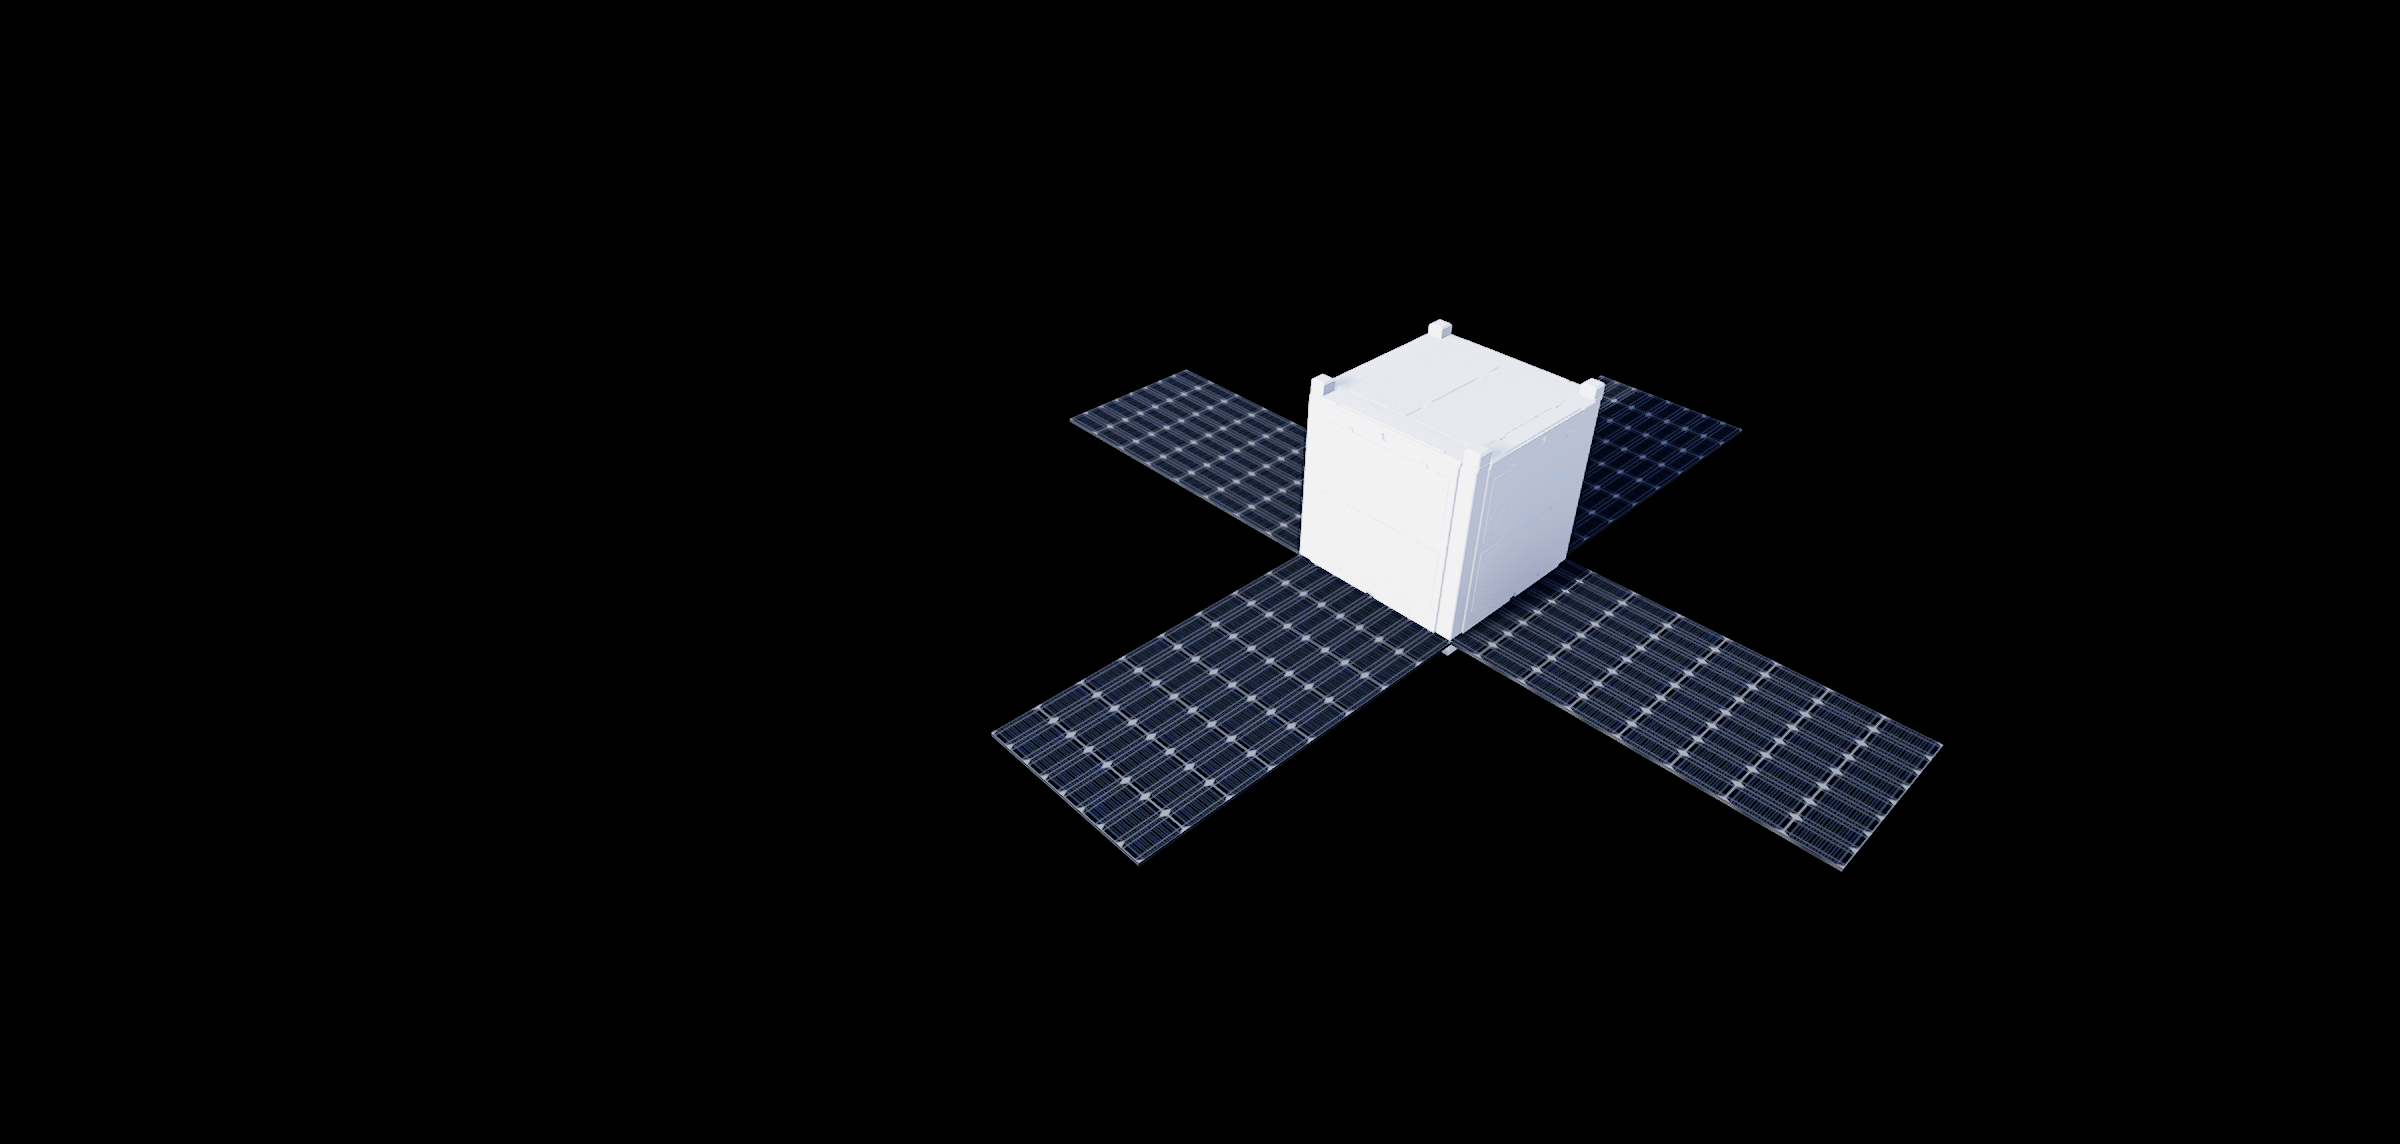satellite: (983, 296, 1965, 913)
